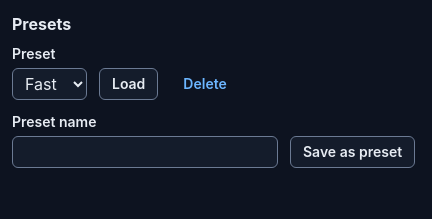
Test: Presets › deletes the selected preset only after the confirm step
The image size is (432, 219).
Click the button with aria-label "Delete Fast": (205,84) [170, 68, 240, 100]
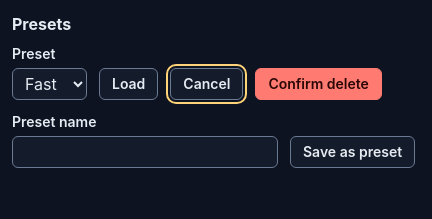
Check: the button with aria-label "Confirm delete Fast" reads "Confirm delete", box [255, 68, 382, 100]
Click the button with aria-label "Cancel delete Fast": (207,84) [170, 68, 243, 100]
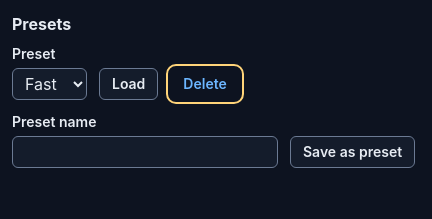
Click the button with aria-label "Delete Fast": (205,84) [170, 68, 240, 100]
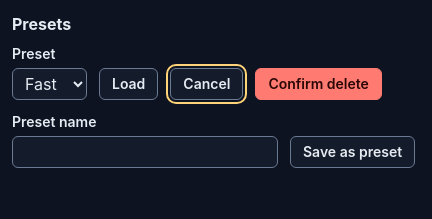
Click the button with aria-label "Confirm delete Fast": (319,84) [255, 68, 382, 100]
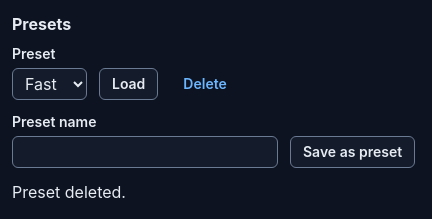
Check: the button with aria-label "Delete Fast" is shown, box [170, 68, 240, 100]
Check: the message "Preset deleted." is shown, box [12, 182, 126, 202]
